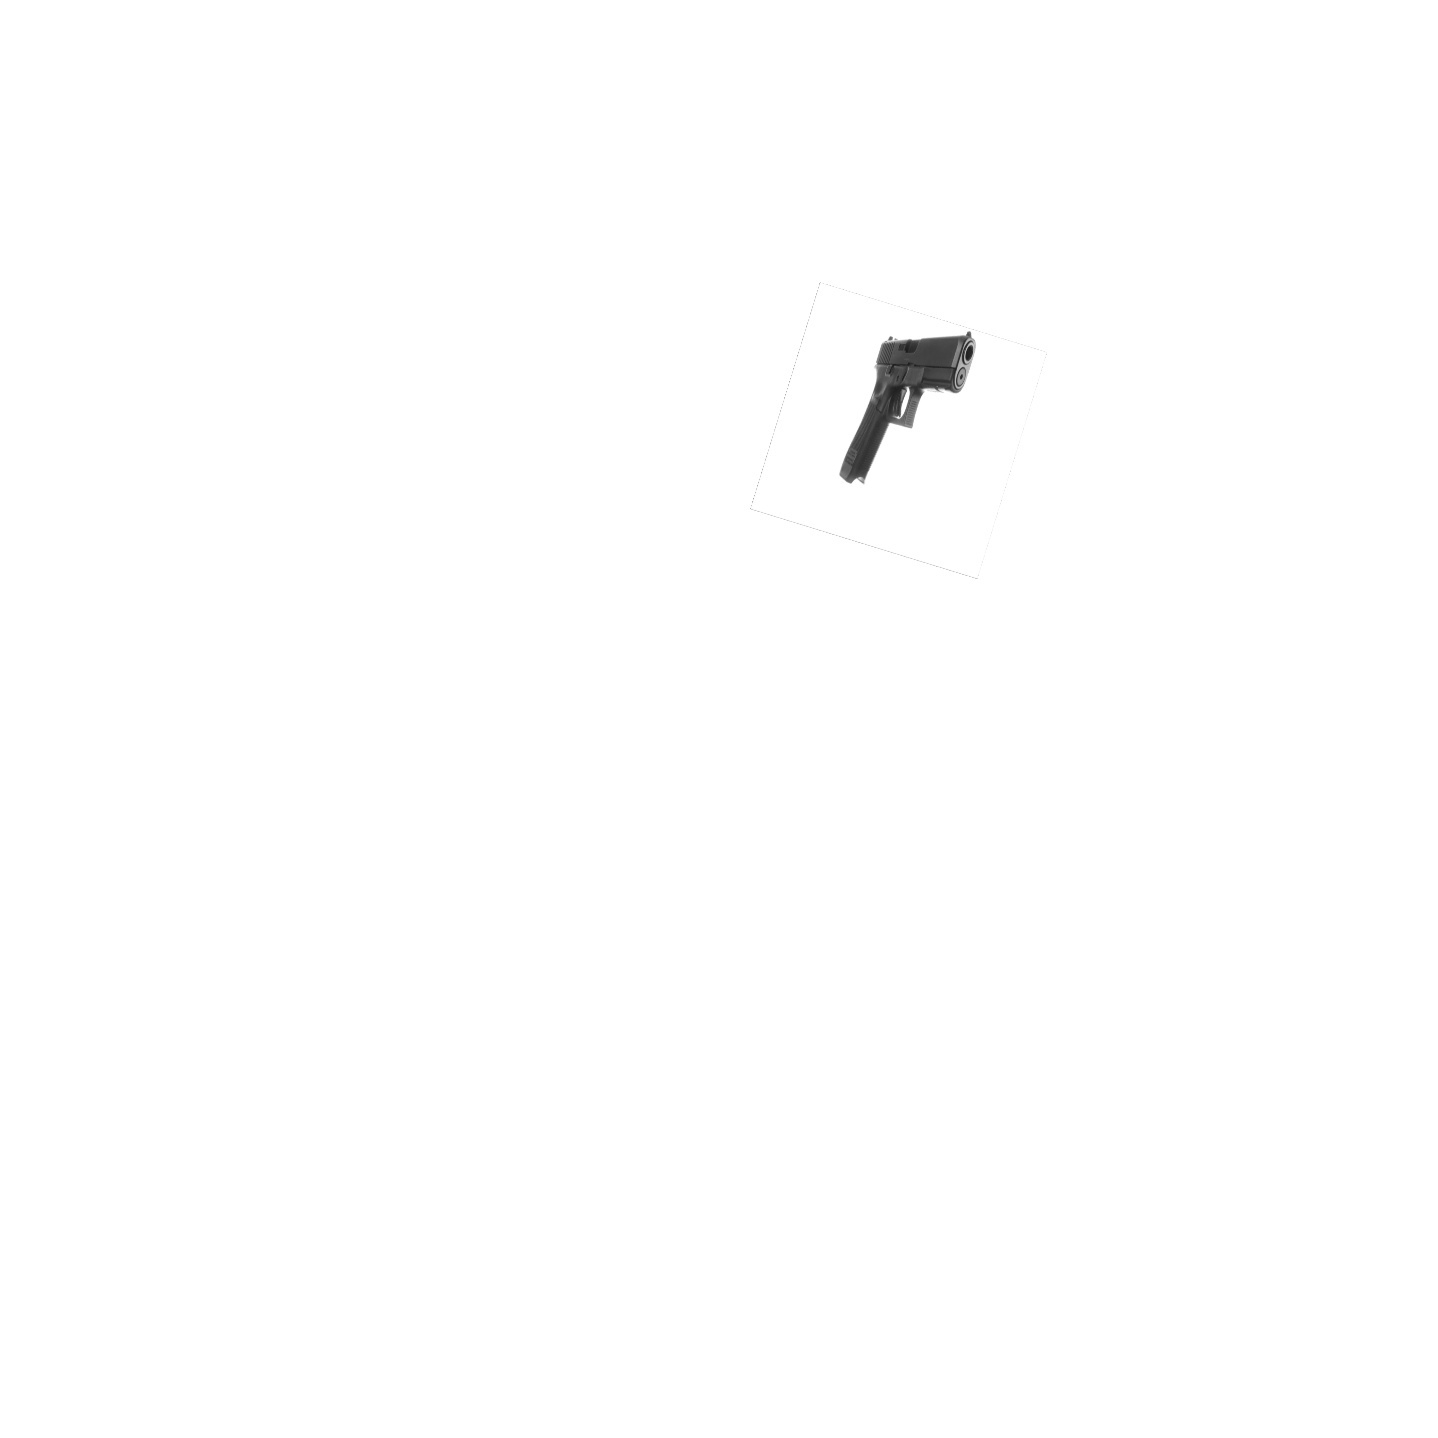gun: (834, 331, 981, 489)
